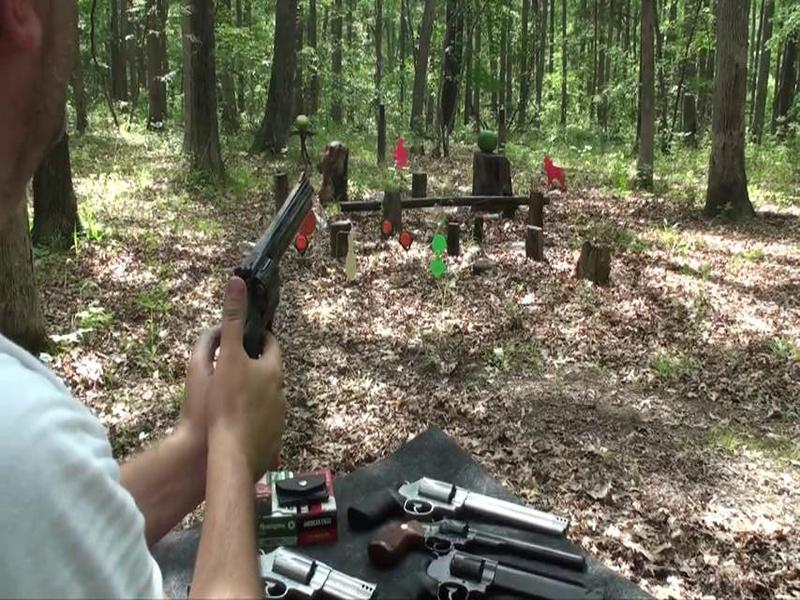Revolver: (199, 161, 338, 373)
